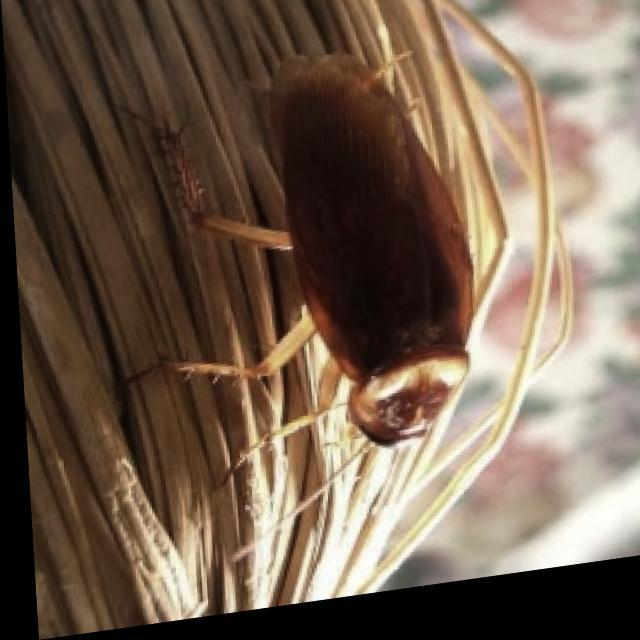cockroach: (154, 18, 524, 502)
